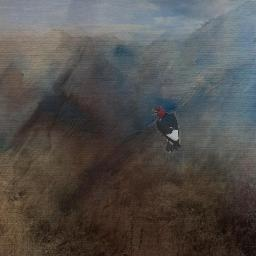Woodpecker: (150, 105, 183, 153)
